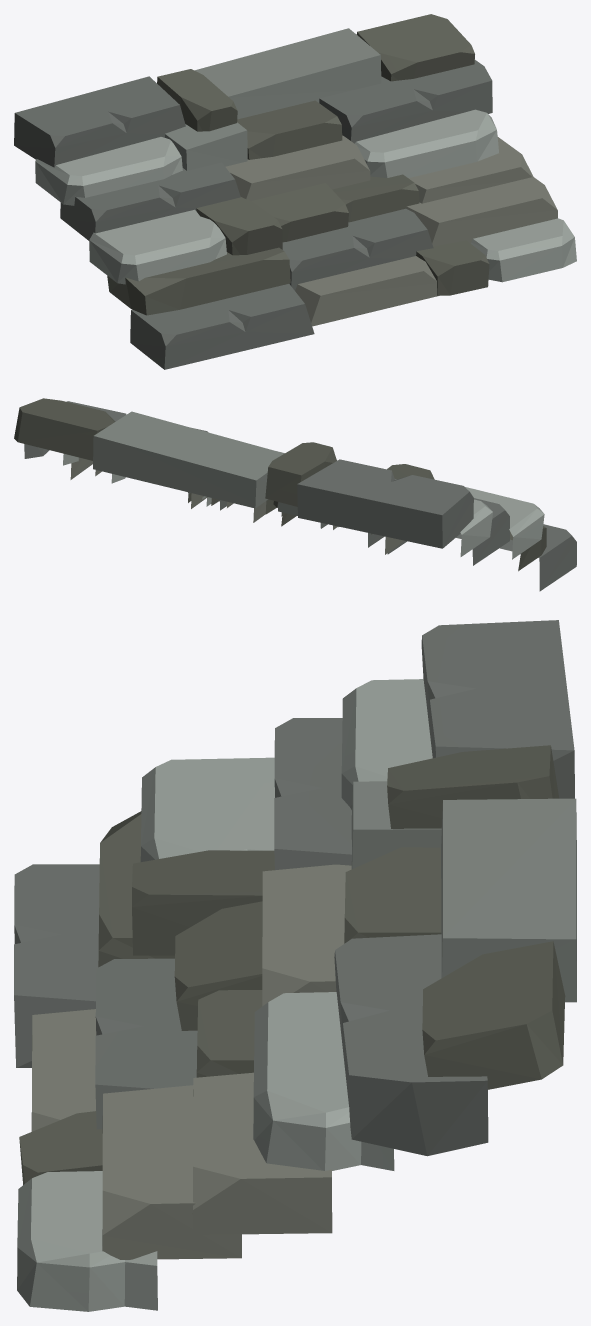
File: ZLP_Stairs_A_11.FBX
3 views of the same model, one above another, from view 1: azimuth 30°, elevation 25°; view 2: azimuth 150°, elevation 25°; view 3: azimuth 270°, elevation 25° (orthographic). The views are drawn at different scales.
Parts seen in each view (by area): view 1: ZLP_Stairs_A_11; view 2: ZLP_Stairs_A_11; view 3: ZLP_Stairs_A_11.
Boxes of the visible parts, bbox=[...] form: ZLP_Stairs_A_11: bbox=[14, 14, 576, 369]; ZLP_Stairs_A_11: bbox=[14, 398, 576, 591]; ZLP_Stairs_A_11: bbox=[14, 620, 576, 1311].
Size of the model in its own units: 463 by 164 by 273.
